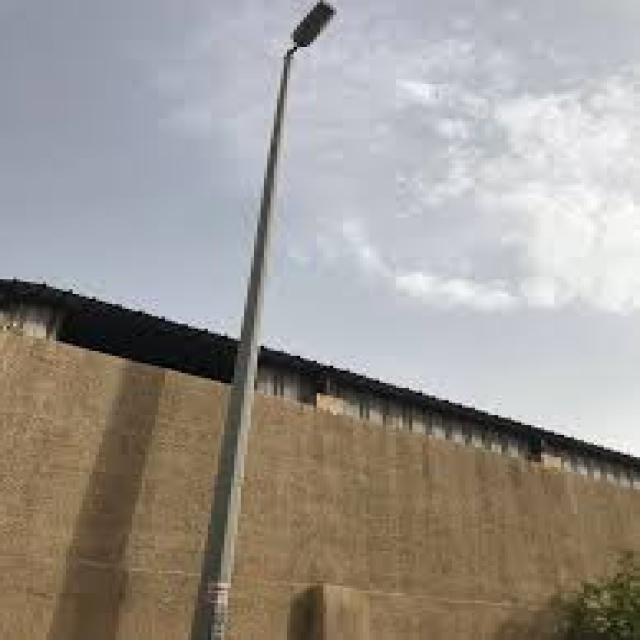Street Light: (185, 2, 333, 638)
